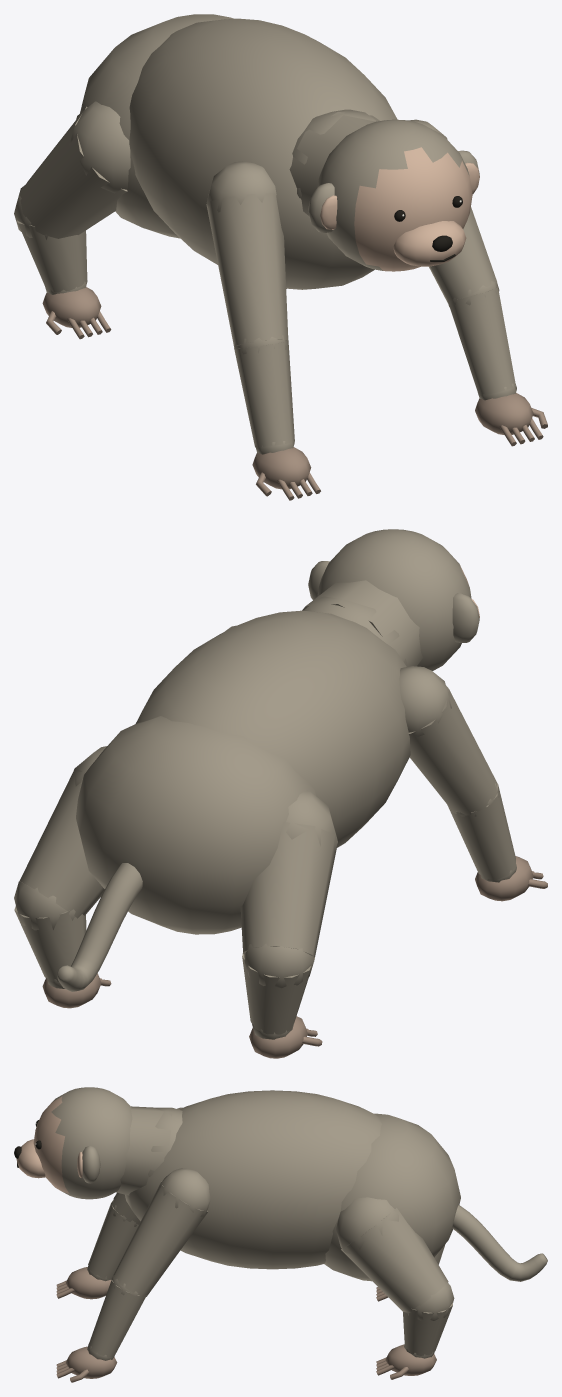
Rendered from monkey_macaque.glb.
The picture shows the model from 3 angles, top to bottom: view 1: azimuth 30°, elevation 25°; view 2: azimuth 150°, elevation 25°; view 3: azimuth 270°, elevation 25°; orthographic projection. The views are drawn at different scales.
Visible parts, largest first — view 1: Macaque_Stocky_Horizontal_Body, Macaque_Head_With_Surface_Face, Macaque_Front_Arm_-1_Segment_0, Macaque_Rear_Leg_-1_Segment_0, Macaque_Rounded_Rear_Haunches, Macaque_Front_Arm_-1_Segment_1, Macaque_Front_Arm_1_Segment_1, Macaque_Rear_Leg_-1_Rounded_Joint_0, Macaque_Rear_Leg_-1_Segment_1, Macaque_Front_Arm_1_Segment_0, Macaque_Connected_Neck_Segment_0, Macaque_Rounded_Muzzle (+6 smaller); view 2: Macaque_Rounded_Rear_Haunches, Macaque_Stocky_Horizontal_Body, Macaque_Head_With_Surface_Face, Macaque_Rear_Leg_-1_Segment_0, Macaque_Front_Arm_-1_Segment_0, Macaque_Rear_Leg_1_Segment_0, Macaque_Short_Curved_Tail, Macaque_Front_Arm_-1_Segment_1, Macaque_Connected_Neck_Segment_0, Macaque_Rear_Leg_-1_Segment_1, Macaque_Rear_Leg_1_Segment_1, Macaque_Front_Arm_-1_Rounded_Joint_0 (+8 smaller); view 3: Macaque_Stocky_Horizontal_Body, Macaque_Rounded_Rear_Haunches, Macaque_Head_With_Surface_Face, Macaque_Rear_Leg_1_Segment_0, Macaque_Front_Arm_1_Segment_0, Macaque_Connected_Neck_Segment_0, Macaque_Short_Curved_Tail, Macaque_Front_Arm_1_Segment_1, Macaque_Front_Arm_-1_Segment_1, Macaque_Rear_Leg_1_Rounded_Joint_0, Macaque_Rear_Leg_1_Segment_1, Macaque_Front_Arm_1_Rounded_Joint_0 (+8 smaller).
Boxes of the visible parts, x1,y1,x2,y2 form: Macaque_Stocky_Horizontal_Body: (129,18,397,289); Macaque_Head_With_Surface_Face: (317,119,472,271); Macaque_Front_Arm_-1_Segment_0: (206,193,288,347); Macaque_Rear_Leg_-1_Segment_0: (19,106,127,238); Macaque_Rounded_Rear_Haunches: (80,14,233,238); Macaque_Front_Arm_-1_Segment_1: (234,340,294,447); Macaque_Front_Arm_1_Segment_1: (447,286,515,395); Macaque_Rear_Leg_-1_Rounded_Joint_0: (69,101,130,193); Macaque_Rear_Leg_-1_Segment_1: (17,220,87,292); Macaque_Front_Arm_1_Segment_0: (429,207,496,302); Macaque_Connected_Neck_Segment_0: (289,112,379,216); Macaque_Rounded_Muzzle: (393,221,466,266); Macaque_Rounded_Rear_Haunches: (76,716,315,934); Macaque_Stocky_Horizontal_Body: (135,610,410,847); Macaque_Head_With_Surface_Face: (317,529,471,670); Macaque_Rear_Leg_-1_Segment_0: (240,822,337,957); Macaque_Front_Arm_-1_Segment_0: (408,685,497,815); Macaque_Rear_Leg_1_Segment_0: (19,768,104,918); Macaque_Short_Curved_Tail: (57,863,142,991); Macaque_Front_Arm_-1_Segment_1: (447,783,515,879); Macaque_Connected_Neck_Segment_0: (302,580,422,666); Macaque_Rear_Leg_-1_Segment_1: (242,954,314,1034); Macaque_Rear_Leg_1_Segment_1: (14,906,86,981); Macaque_Front_Arm_-1_Rounded_Joint_0: (399,666,451,736); Macaque_Stocky_Horizontal_Body: (125,1090,381,1269); Macaque_Rounded_Rear_Haunches: (324,1113,460,1281); Macaque_Head_With_Surface_Face: (33,1087,132,1199); Macaque_Rear_Leg_1_Segment_0: (341,1208,448,1312); Macaque_Front_Arm_1_Segment_0: (113,1181,208,1296); Macaque_Connected_Neck_Segment_0: (116,1106,172,1195); Macaque_Short_Curved_Tail: (452,1205,547,1281); Macaque_Front_Arm_1_Segment_1: (88,1280,146,1357); Macaque_Front_Arm_-1_Segment_1: (88,1202,138,1279); Macaque_Rear_Leg_1_Rounded_Joint_0: (336,1197,398,1254); Macaque_Rear_Leg_1_Segment_1: (403,1302,452,1355); Macaque_Front_Arm_1_Rounded_Joint_0: (159,1168,210,1216).
Size of the model in its own units: 0.3669 by 0.4 by 0.7931.
